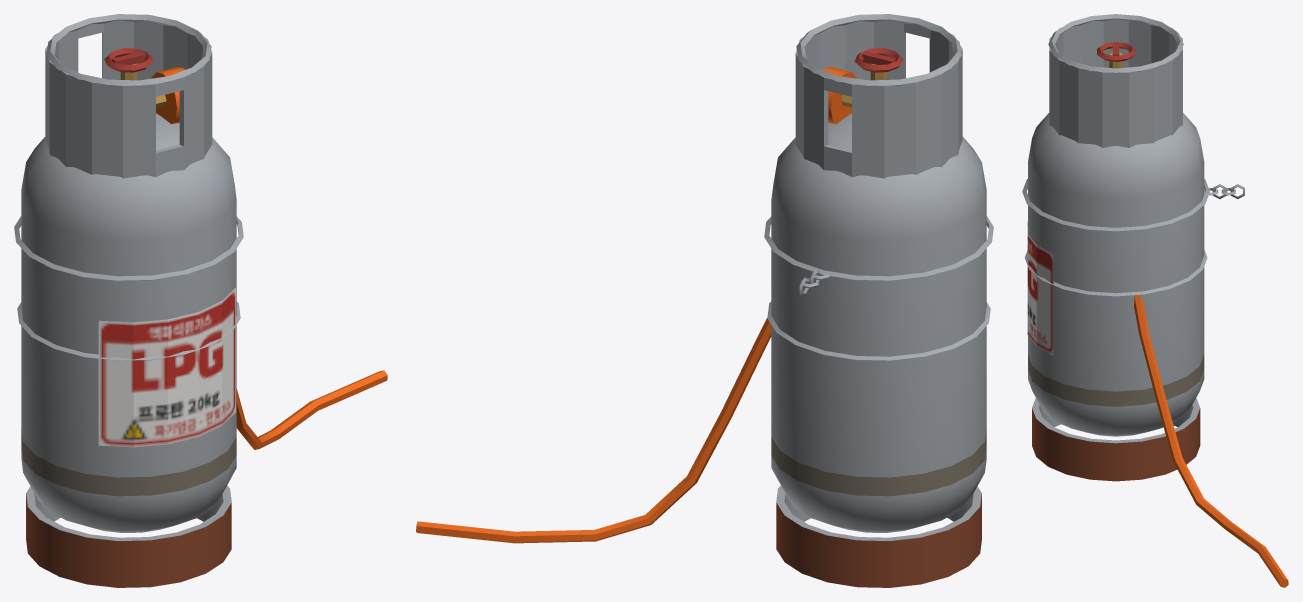
File: SC_Home_LPG_Cylinder.gltf
3 views of the same model, side by side, from view 1: azimuth 30°, elevation 25°; view 2: azimuth 150°, elevation 25°; view 3: azimuth 270°, elevation 25° (orthographic). The views are drawn at different scales.
Visible parts, largest first — view 1: SC_Home_LPG_Cylinder; view 2: SC_Home_LPG_Cylinder; view 3: SC_Home_LPG_Cylinder.
Boxes of the visible parts, x1,y1,x2,y2 form: SC_Home_LPG_Cylinder: [14, 14, 387, 587]; SC_Home_LPG_Cylinder: [416, 14, 993, 587]; SC_Home_LPG_Cylinder: [1022, 14, 1288, 587].
Size of the model in its own units: 0.7698 by 0.796 by 0.4754.
Materials: 2 (2 with a texture image).
